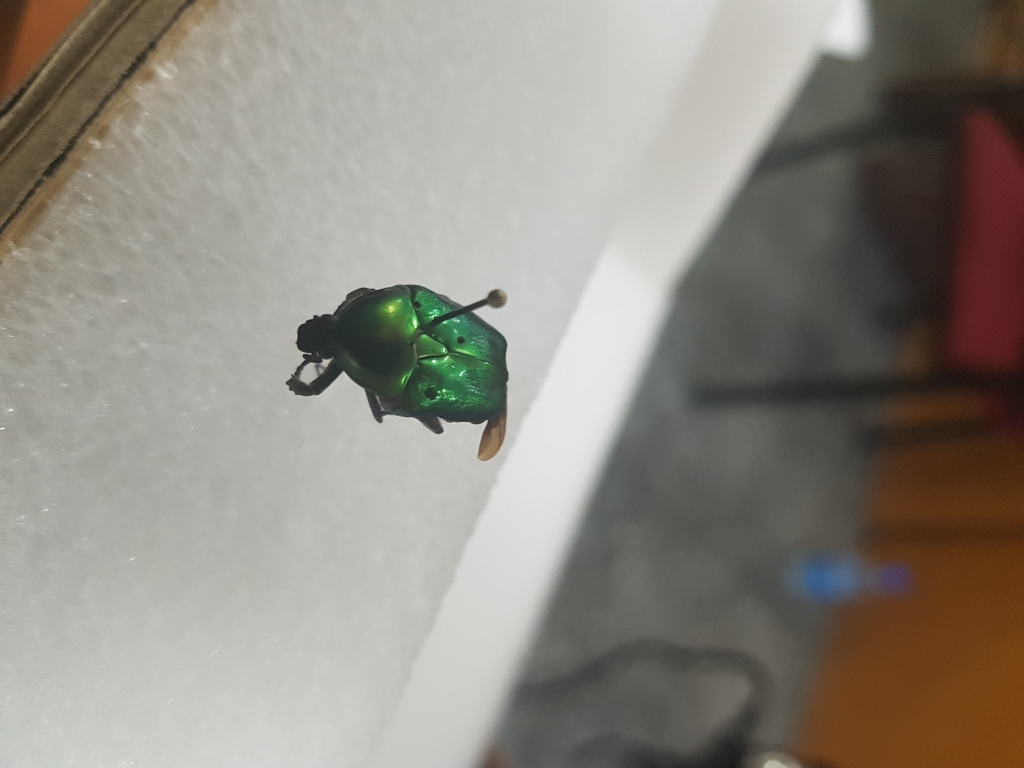Protaetia_cuprea_ignicollis: (276, 276, 515, 432)
